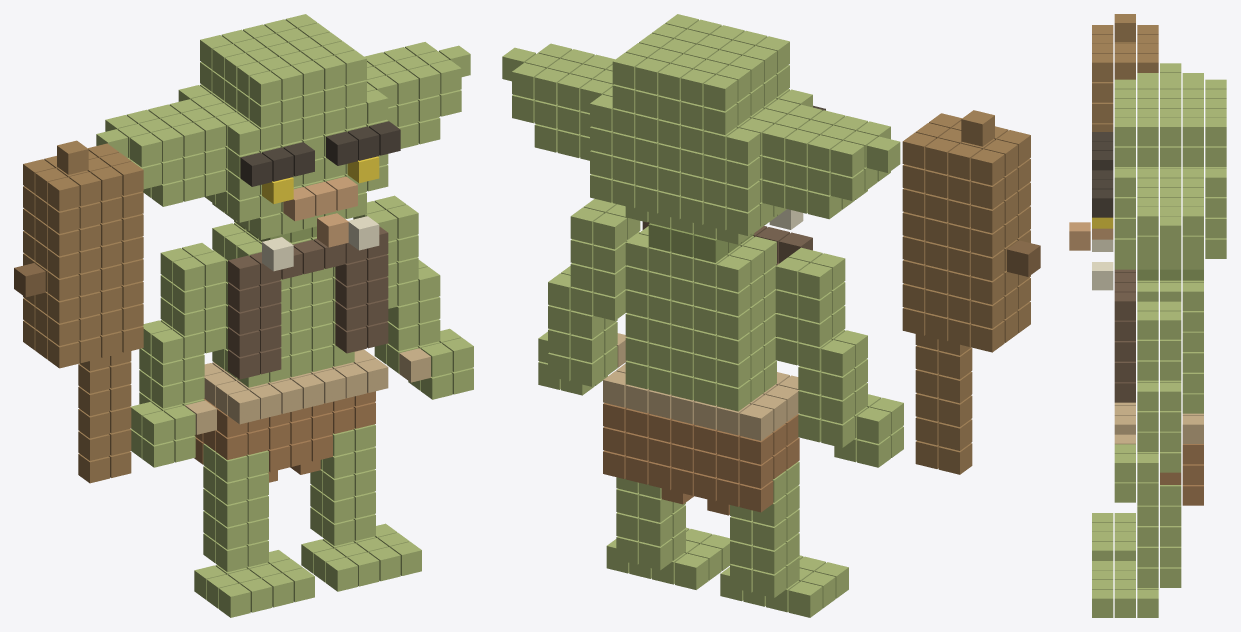
File: goblin-voxel.glb
3 views of the same model, side by side, from view 1: azimuth 30°, elevation 25°; view 2: azimuth 150°, elevation 25°; view 3: azimuth 270°, elevation 25° (orthographic). The views are drawn at different scales.
Parts seen in each view (by area): view 1: goblin-voxel; view 2: goblin-voxel; view 3: goblin-voxel.
Boxes of the visible parts, x1,y1,x2,y2 form: goblin-voxel: (14,14,473,617); goblin-voxel: (502,14,1040,617); goblin-voxel: (1069,14,1226,617).
Bounding box in the file's own units: 2.63 × 2.75 × 0.8328.
